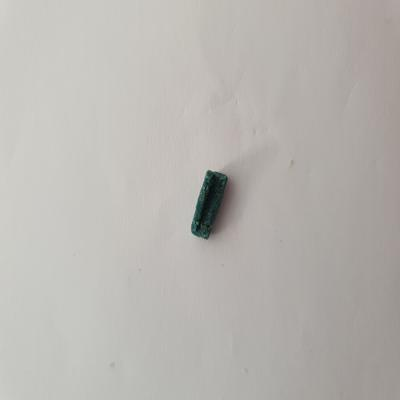plastic: (188, 168, 231, 244)
